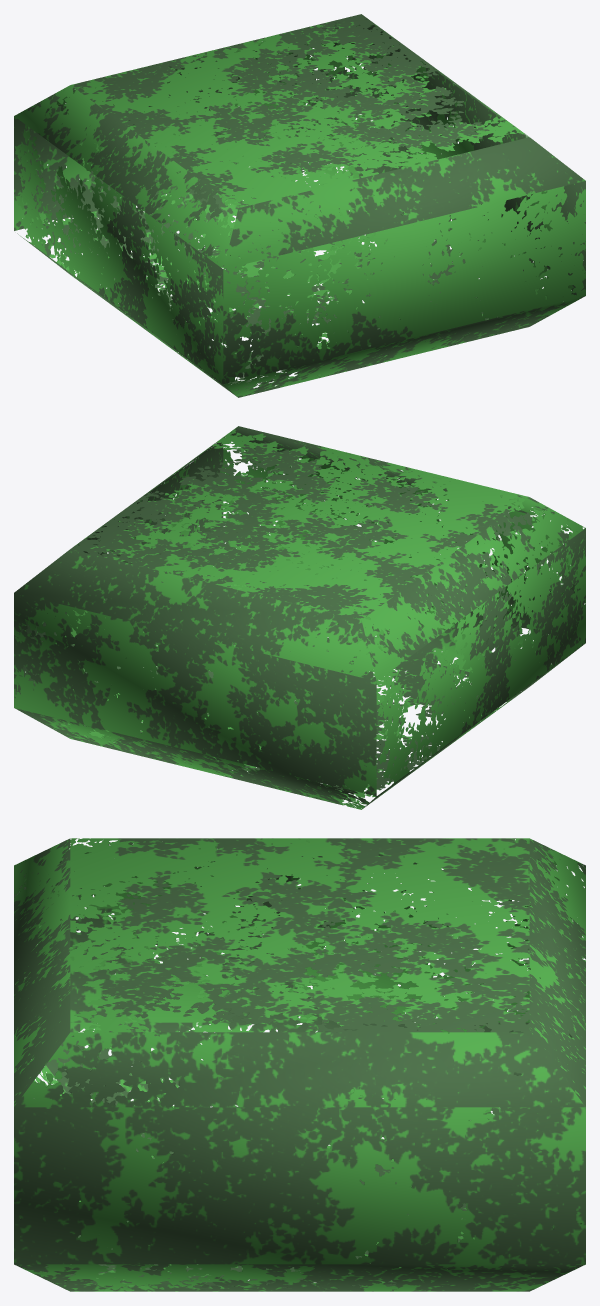
File: blockPlatformLeaves.obj
3 renders of one model, top to bottom at view 1: azimuth 30°, elevation 25°; view 2: azimuth 150°, elevation 25°; view 3: azimuth 270°, elevation 25°, orthographic. The views are drawn at different scales.
Visible parts, largest first — view 1: blockPlatformLeaves; view 2: blockPlatformLeaves; view 3: blockPlatformLeaves.
Boxes of the visible parts, bbox=[...] form: blockPlatformLeaves: bbox=[14, 14, 585, 397]; blockPlatformLeaves: bbox=[14, 426, 585, 809]; blockPlatformLeaves: bbox=[14, 838, 585, 1291].
Bounding box in the file's own units: 1 × 0.5 × 1.
Materials: 1 (1 with a texture image).
